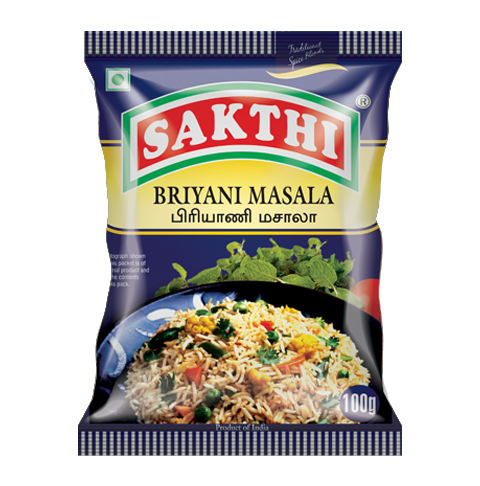VEG: (104, 66, 131, 93)
